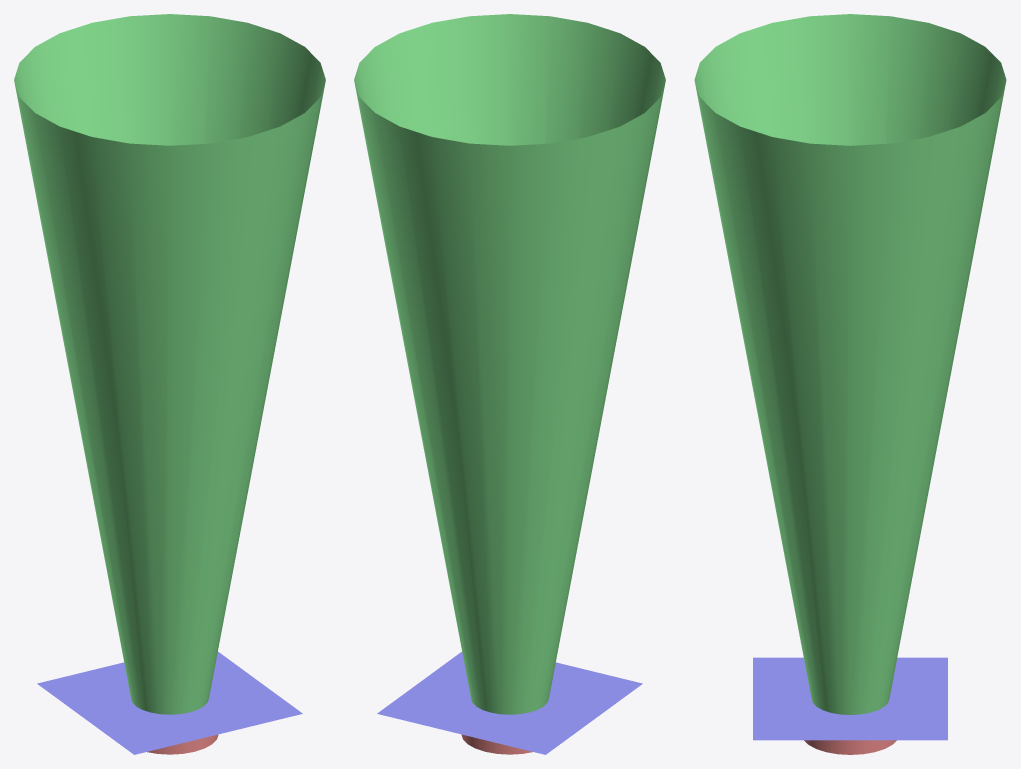
File: Light_DengPian8_1X1_on.FBX
The picture shows the model from 3 angles, left to right: view 1: azimuth 30°, elevation 25°; view 2: azimuth 150°, elevation 25°; view 3: azimuth 270°, elevation 25°; orthographic projection.
Visible parts, largest first — view 1: Box002; view 2: Box002; view 3: Box002.
Boxes of the visible parts, x1,y1,x2,y2 form: Box002: (14, 14, 325, 754); Box002: (354, 14, 665, 754); Box002: (694, 14, 1006, 754).
Size of the model in its own units: 1.6 by 3.7 by 1.6.
